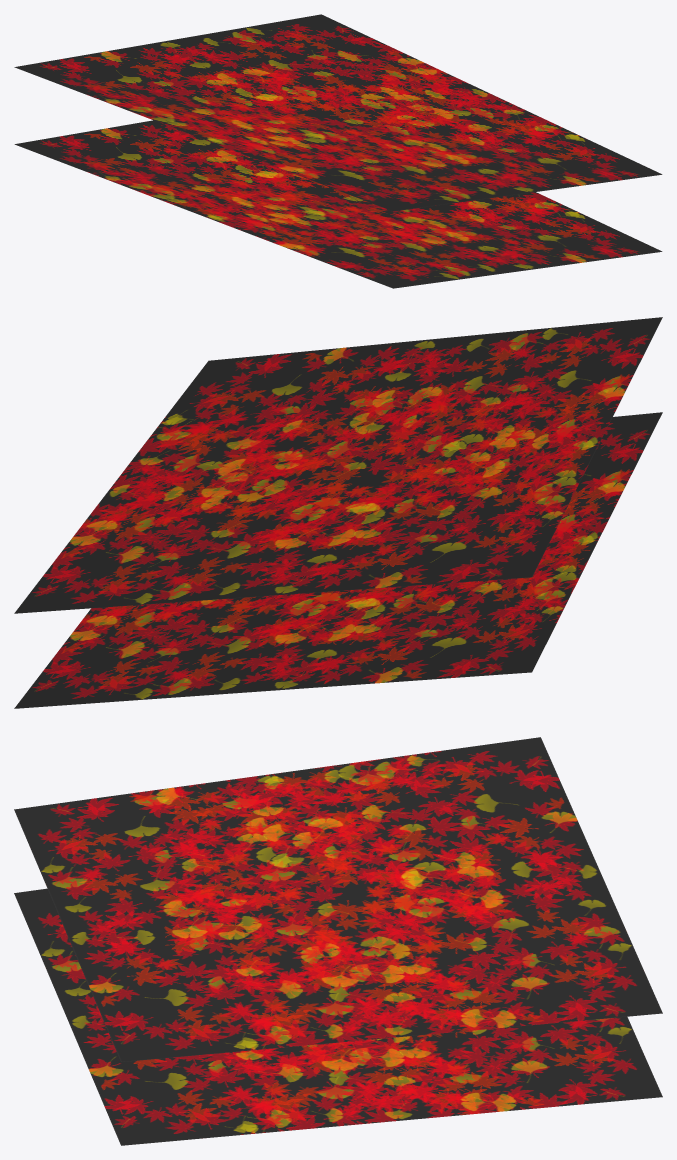
The model's file is OBJ_CourseAki_CurveFloor_3_13.fbx.
3 views of the same model, one above another, from view 1: azimuth 30°, elevation 25°; view 2: azimuth 150°, elevation 25°; view 3: azimuth 270°, elevation 25° (orthographic). The views are drawn at different scales.
Visible parts, largest first — view 1: polySurface127, polySurface128; view 2: polySurface127, polySurface128; view 3: polySurface127, polySurface128.
Part boxes in pixels (left/top/right/bottom): polySurface127: left=14, top=14, right=662, bottom=211; polySurface128: left=14, top=120, right=662, bottom=288; polySurface127: left=14, top=317, right=662, bottom=613; polySurface128: left=14, top=412, right=662, bottom=708; polySurface127: left=14, top=737, right=662, bottom=1061; polySurface128: left=14, top=888, right=662, bottom=1145.
Bounding box in the file's own units: 6.19 × 2 × 7.03.
1 material, 1 textured.
